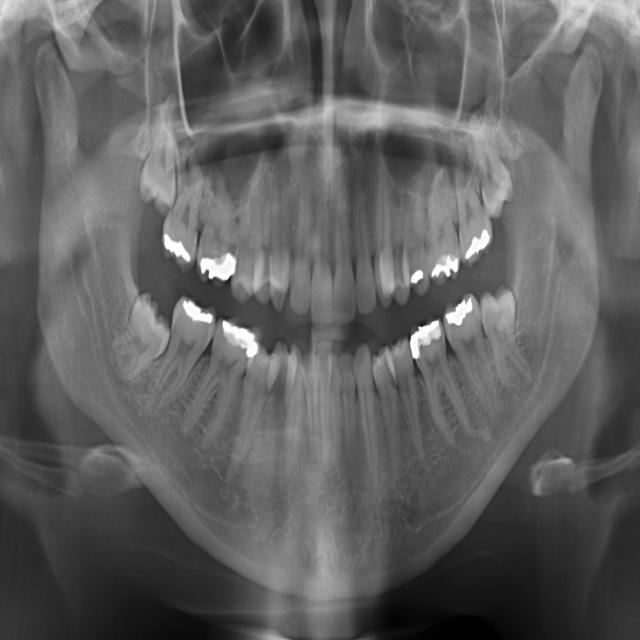AmalgamRestoration: (408, 318, 447, 362), (182, 294, 212, 336), (460, 230, 494, 267), (198, 251, 236, 281), (444, 297, 476, 332), (220, 312, 252, 345), (162, 229, 192, 264), (432, 247, 460, 284), (246, 339, 263, 362), (412, 262, 424, 290)
DentalCaries: (449, 210, 463, 247), (417, 352, 428, 382)
